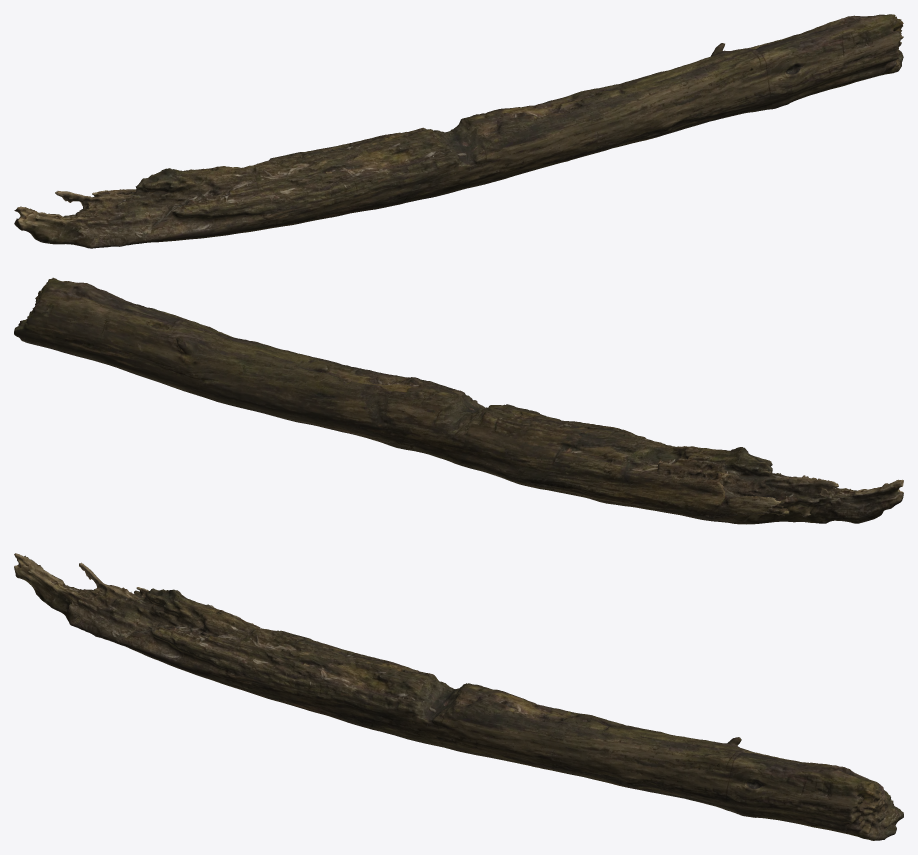
File: fallen-trunk.glb
3 views of the same model, one above another, from view 1: azimuth 30°, elevation 25°; view 2: azimuth 150°, elevation 25°; view 3: azimuth 330°, elevation 25° (orthographic).
Parts seen in each view (by area): view 1: dead_tree_trunk; view 2: dead_tree_trunk; view 3: dead_tree_trunk.
Boxes of the visible parts, x1,y1,x2,y2 form: dead_tree_trunk: (14,14,903,248); dead_tree_trunk: (14,277,903,524); dead_tree_trunk: (14,553,903,840).
Size of the model in its own units: 3.05 by 0.2905 by 0.2775.
Materials: 1 (1 with a texture image).
